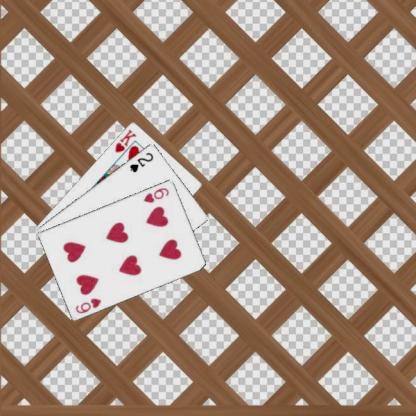2S: (127, 149, 155, 173)
6H: (72, 294, 102, 314), (141, 185, 170, 204)
KH: (112, 127, 137, 154)
